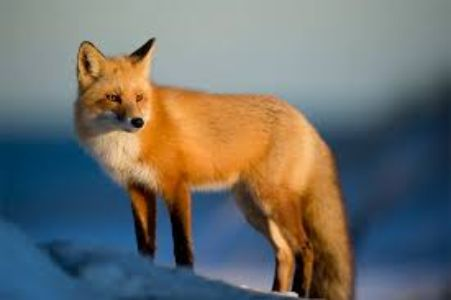fox: (62, 33, 363, 293)
